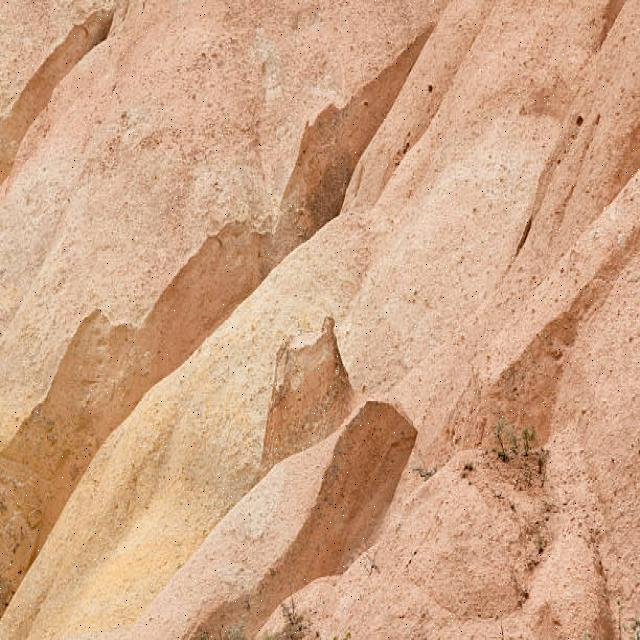Sedimentary: (8, 4, 638, 640)
